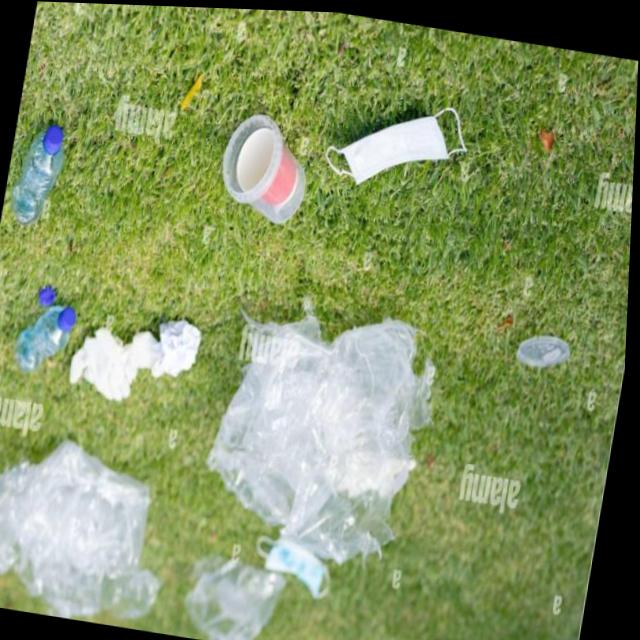food: (58, 306, 207, 413)
leaf: (220, 101, 316, 226), (1, 100, 77, 235), (2, 283, 98, 380), (500, 313, 575, 393)
metal: (183, 296, 465, 577), (0, 414, 191, 629), (182, 551, 304, 640)
plastic: (308, 75, 469, 201), (259, 510, 349, 599)
